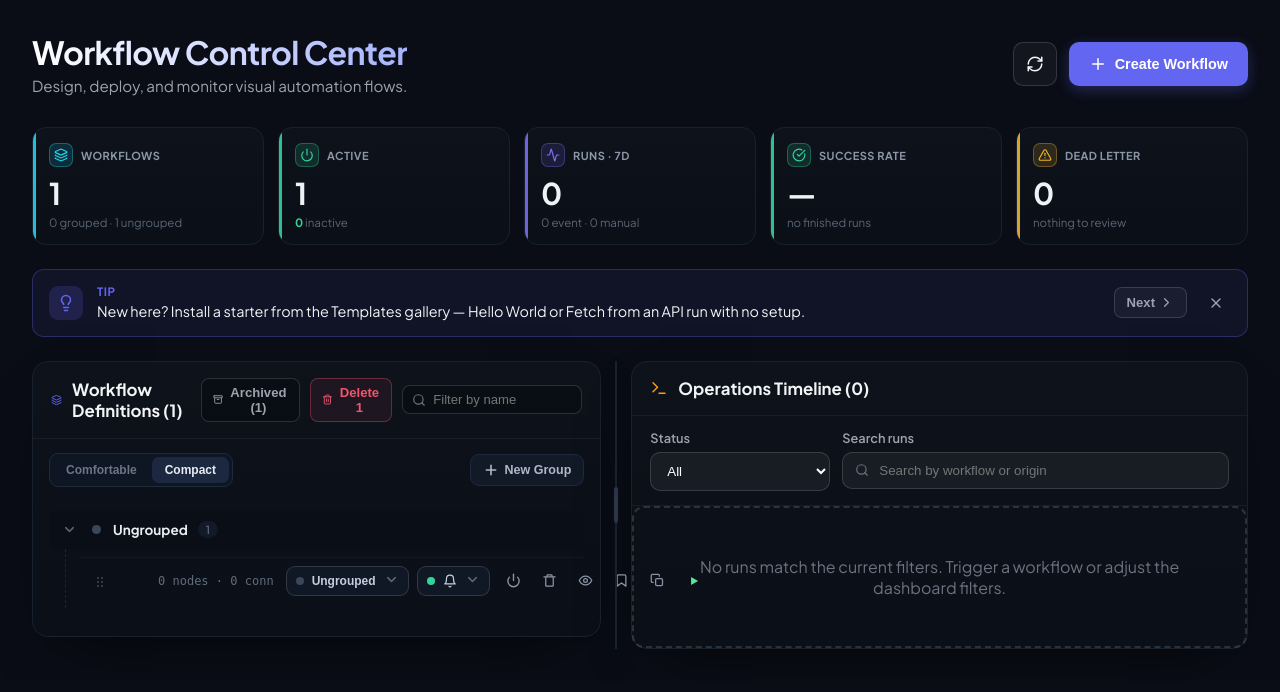
it: Dashboard › permanently deletes an archived workflow after confirmation and removes its row
The width and height of the screenshot is (1280, 692).
# Reveal the archived panel, then permanently delete the lone archived row.
Click the button with aria-label "Toggle archived workflows" at (250, 400), box x1=201 y1=378 x2=300 y2=422
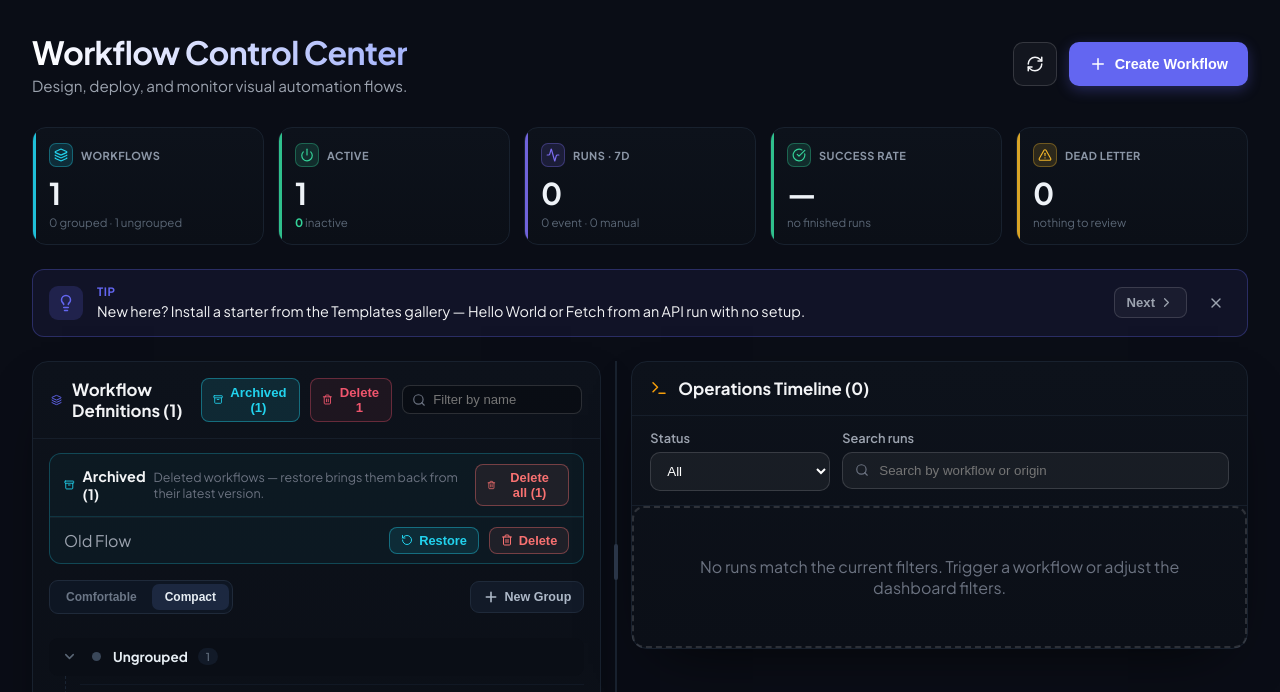
Click the button with aria-label "Permanently delete Old Flow" at (529, 540), box x1=489 y1=527 x2=569 y2=554
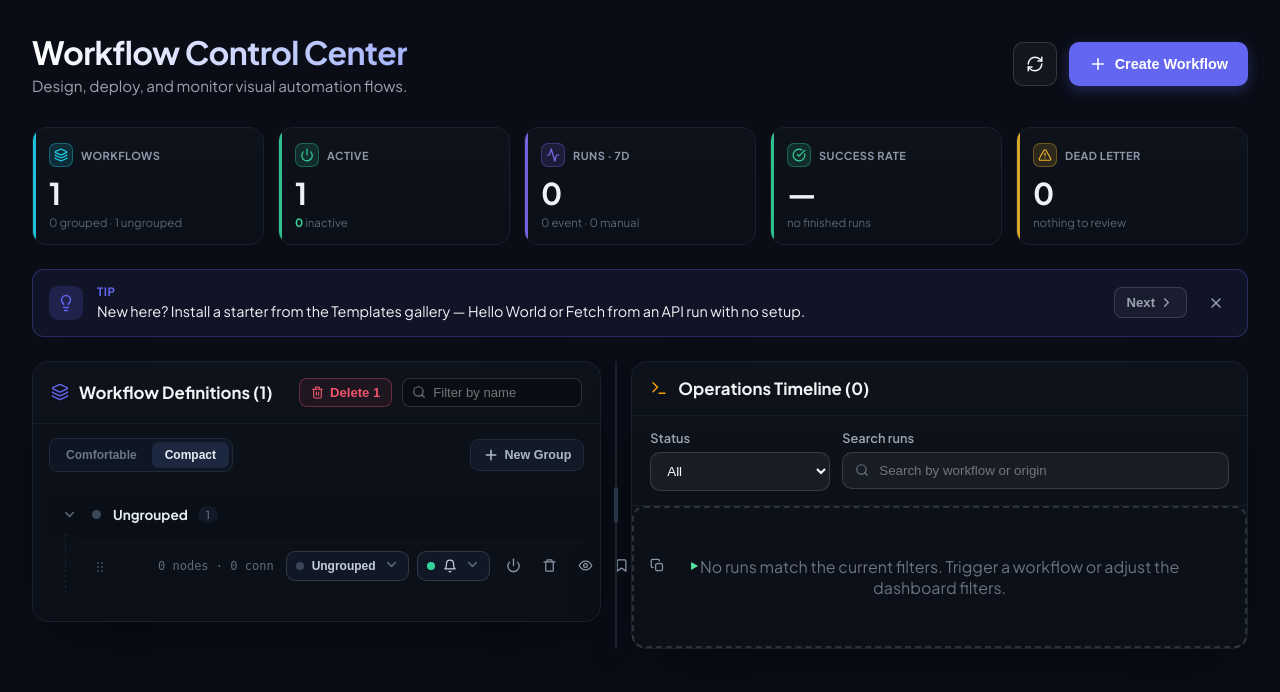
Now the text "Old Flow" is gone
